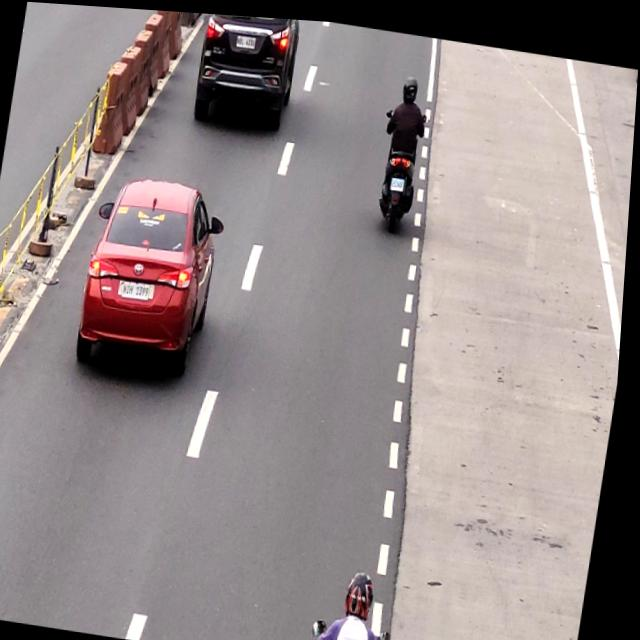Car: (78, 171, 232, 386), (193, 10, 300, 129)
License-Plate: (120, 275, 156, 299), (235, 31, 260, 48), (391, 170, 408, 186)
Motorcycle: (378, 69, 434, 224), (323, 560, 399, 640)
